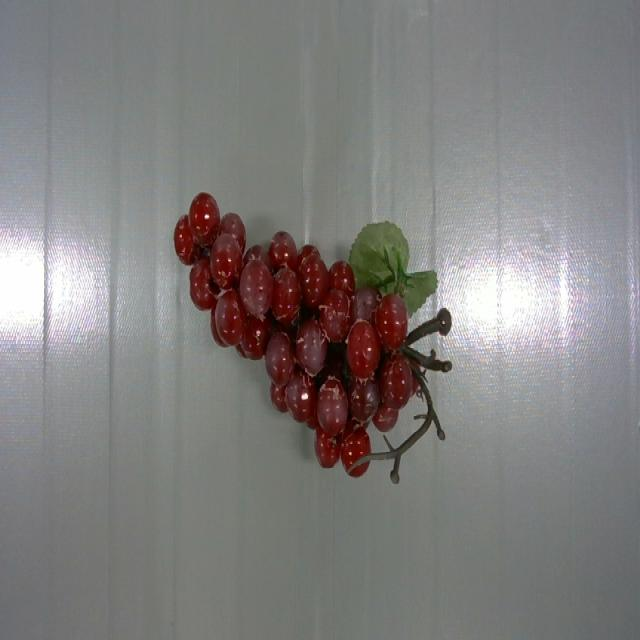grape: (175, 194, 451, 483)
